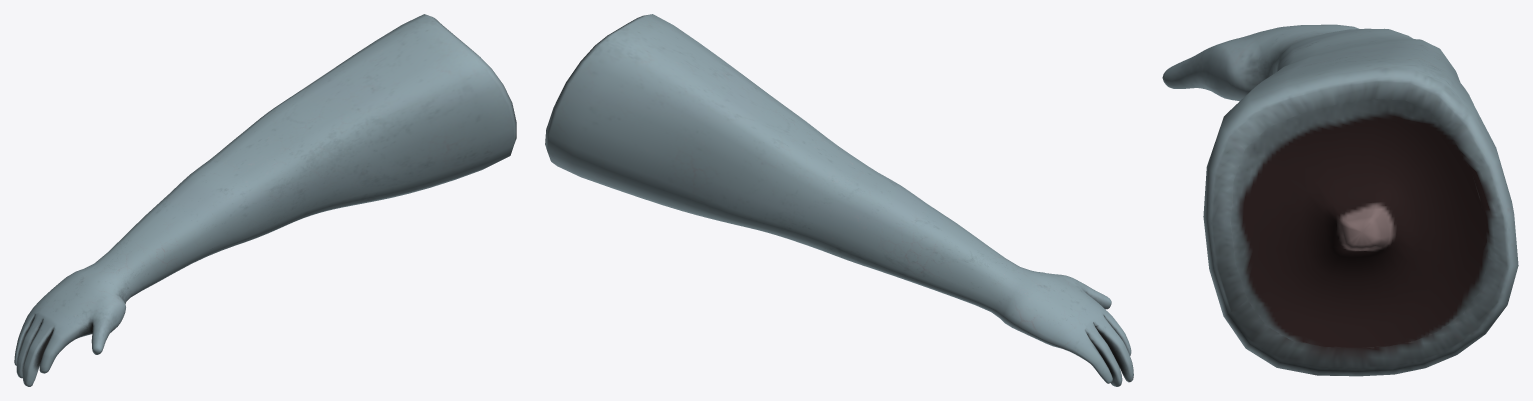
File: b01_r_arm.fbx
3 renders of one model, left to right at view 1: azimuth 30°, elevation 25°; view 2: azimuth 150°, elevation 25°; view 3: azimuth 270°, elevation 25°, orthographic. The views are drawn at different scales.
Parts seen in each view (by area): view 1: a01_r_arm; view 2: a01_r_arm; view 3: a01_r_arm.
Boxes of the visible parts, box(x1,y1,x2,y2) form: a01_r_arm: box(14, 14, 516, 386); a01_r_arm: box(545, 14, 1133, 386); a01_r_arm: box(1162, 24, 1518, 376).
Bounding box in the file's own units: 84.06 × 39.26 × 26.64.
1 material, 1 textured.
